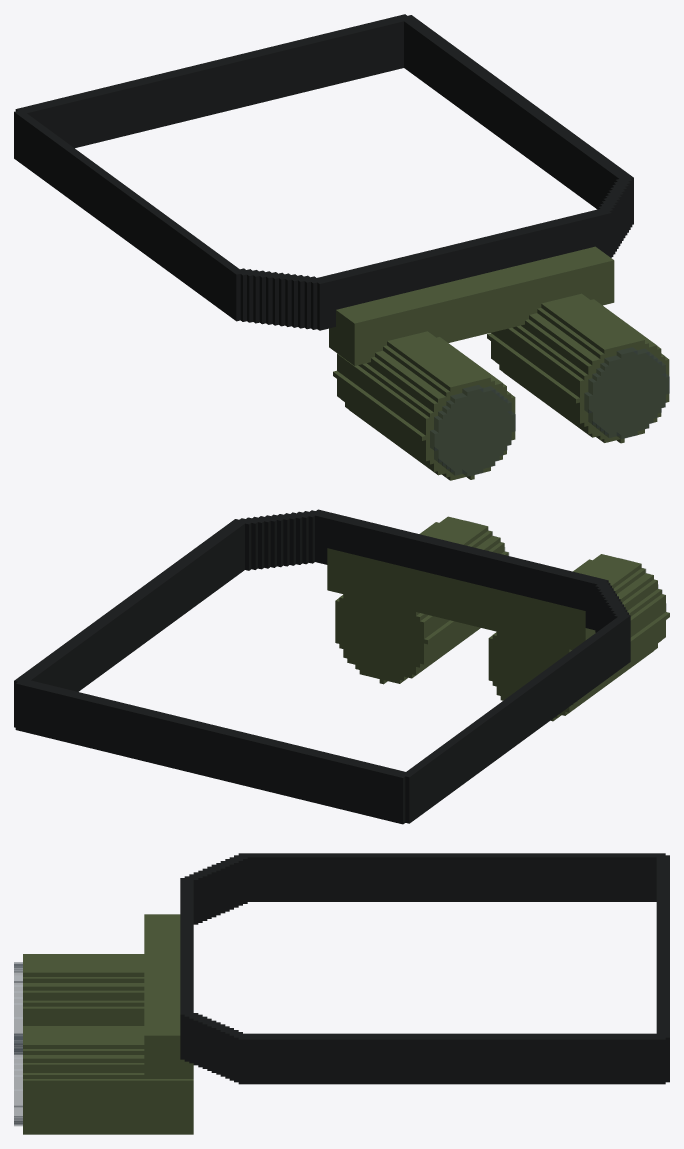
Rendered from night_vision_goggles.glb.
3 renders of one model, top to bottom at view 1: azimuth 30°, elevation 25°; view 2: azimuth 150°, elevation 25°; view 3: azimuth 270°, elevation 25°, orthographic. The views are drawn at different scales.
Visible parts, largest first — view 1: goggles:compound; view 2: goggles:compound; view 3: goggles:compound.
Boxes of the visible parts, bbox=[...] form: goggles:compound: bbox=[14, 14, 669, 480]; goggles:compound: bbox=[14, 509, 669, 824]; goggles:compound: bbox=[14, 853, 669, 1134].
Size of the model in its own units: 0.196 by 0.072 by 0.292.
